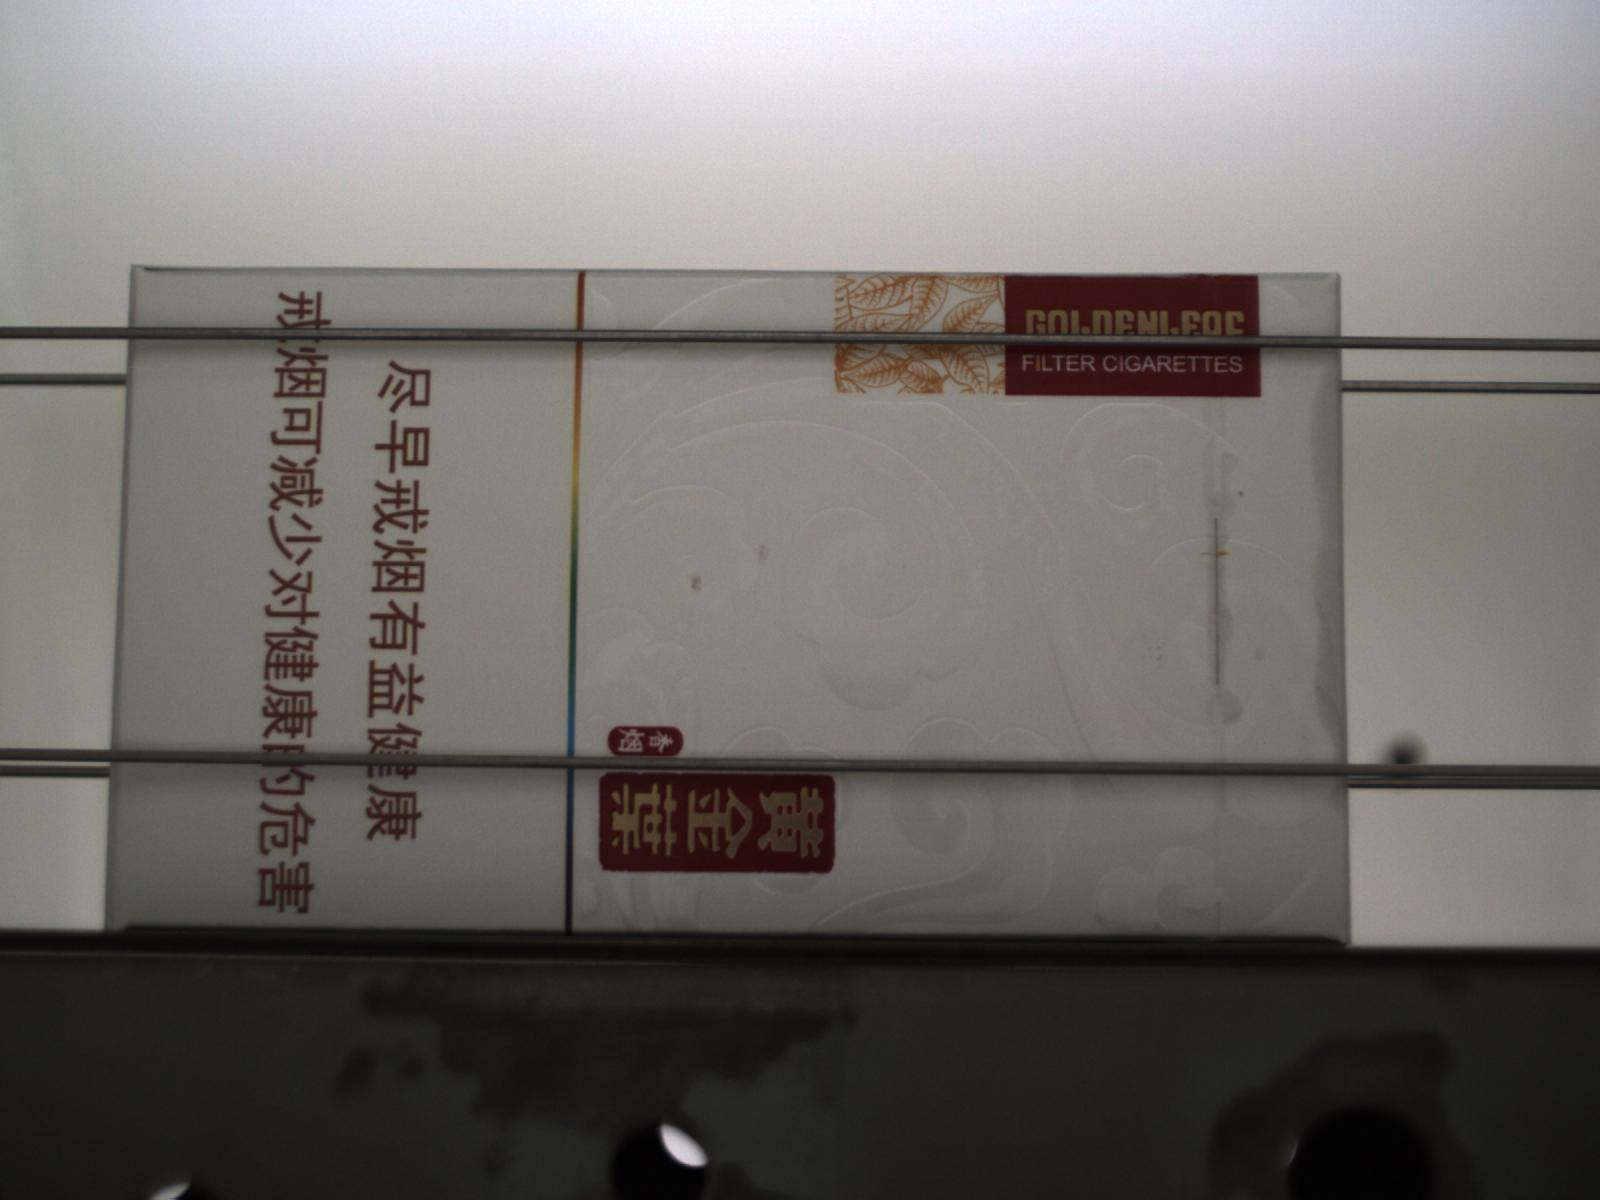areaOil: (1306, 364, 1351, 799), (1201, 454, 1247, 729), (1153, 652, 1165, 663)
dirtySpot: (688, 575, 703, 592), (756, 543, 770, 560), (1236, 489, 1247, 500)
